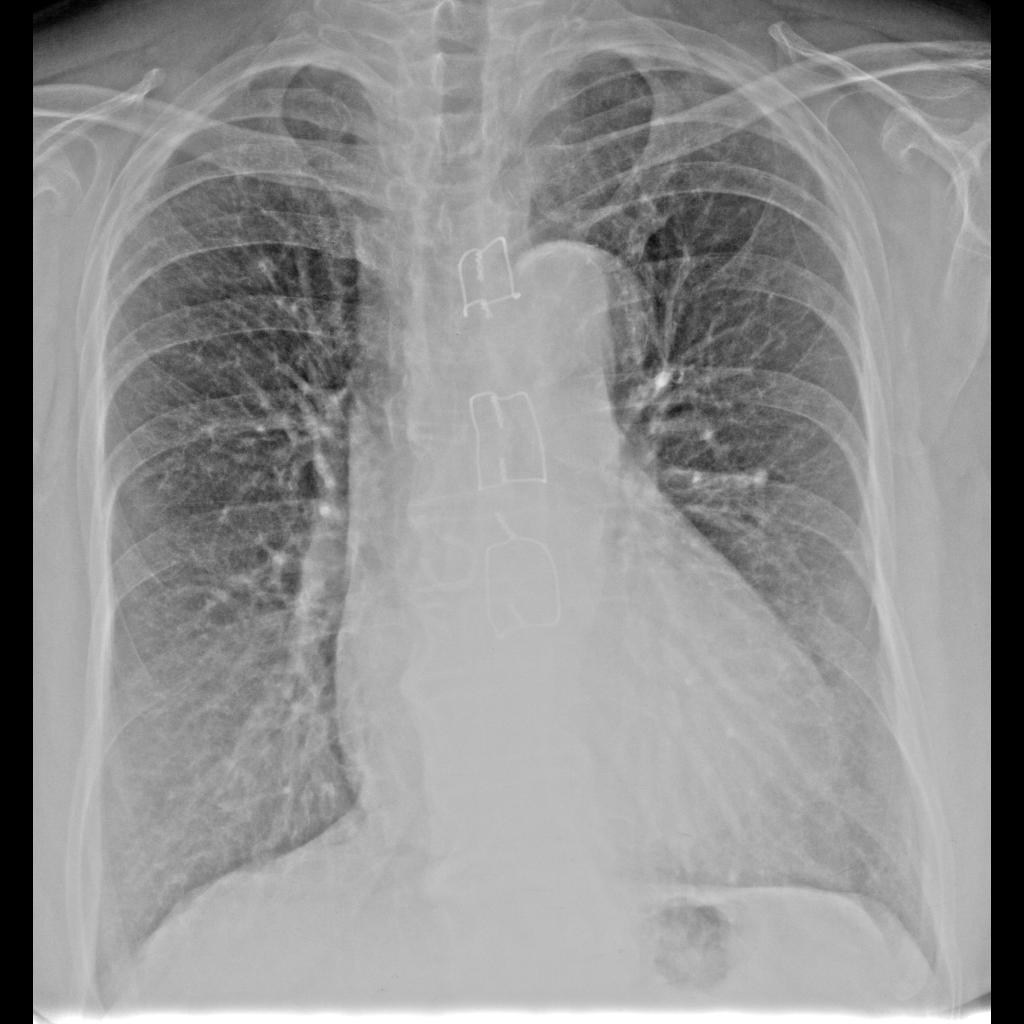Nodule: (244, 211, 273, 240)
